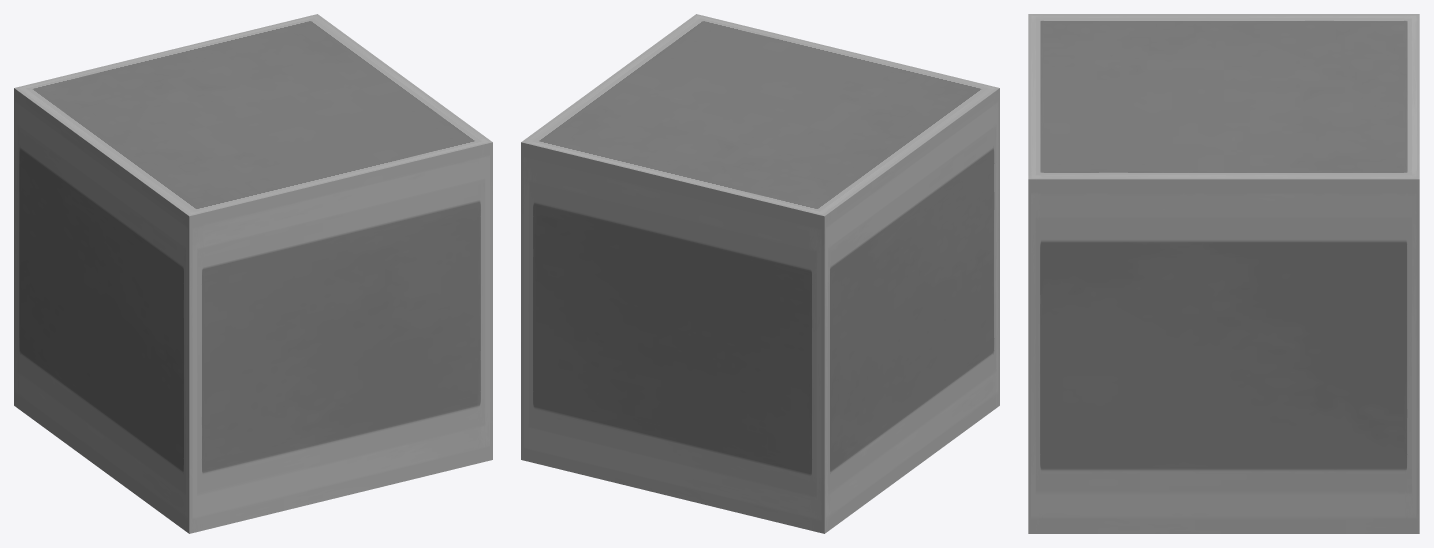
File: ScalableMesh_Ground__17.fbx
3 renders of one model, left to right at view 1: azimuth 30°, elevation 25°; view 2: azimuth 150°, elevation 25°; view 3: azimuth 270°, elevation 25°, orthographic. The views are drawn at different scales.
Visible parts, largest first — view 1: MAT_ScalableMesh_03; view 2: MAT_ScalableMesh_03; view 3: MAT_ScalableMesh_03.
Part boxes in pixels (box(x1,y1,x2,y2)): MAT_ScalableMesh_03: box(14, 14, 492, 533); MAT_ScalableMesh_03: box(521, 14, 999, 533); MAT_ScalableMesh_03: box(1028, 14, 1419, 533).
Size of the model in its own units: 1 by 1 by 1.
1 material, 1 textured.
